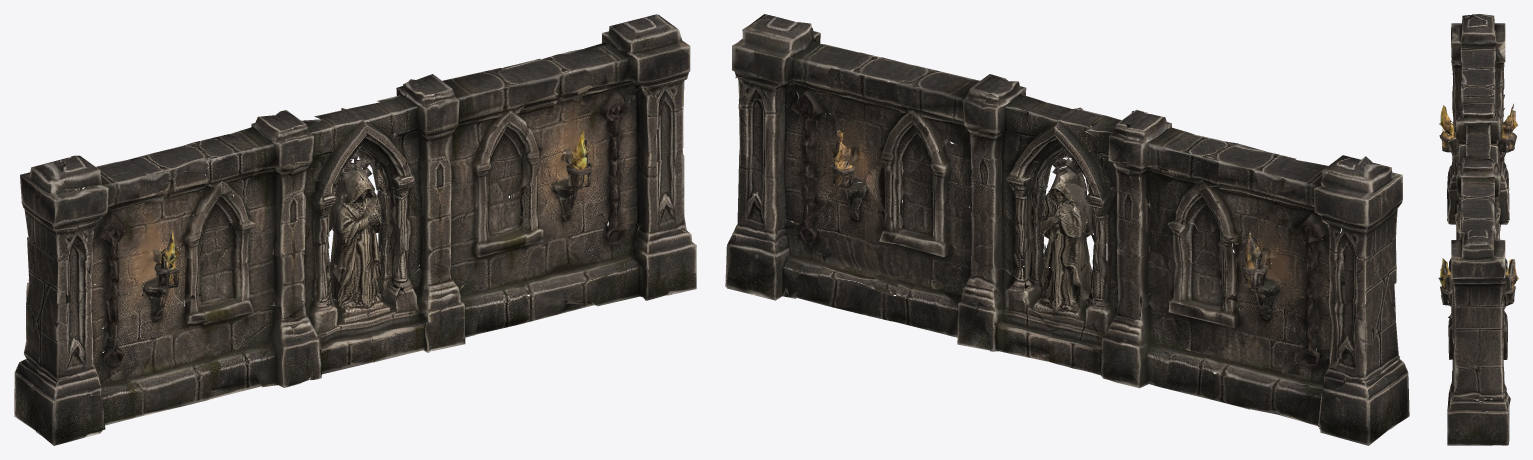
The model's file is torchlit_gothic_wall_mobile.glb.
3 views of the same model, side by side, from view 1: azimuth 30°, elevation 25°; view 2: azimuth 150°, elevation 25°; view 3: azimuth 270°, elevation 25° (orthographic). The views are drawn at different scales.
Visible parts, largest first — view 1: Mesh_0; view 2: Mesh_0; view 3: Mesh_0.
Boxes of the visible parts, x1,y1,x2,y2 form: Mesh_0: [14, 14, 696, 445]; Mesh_0: [725, 14, 1409, 445]; Mesh_0: [1438, 14, 1518, 445].
Size of the model in its own units: 1.9 by 0.7494 by 0.2711.
Materials: 1 (1 with a texture image).
